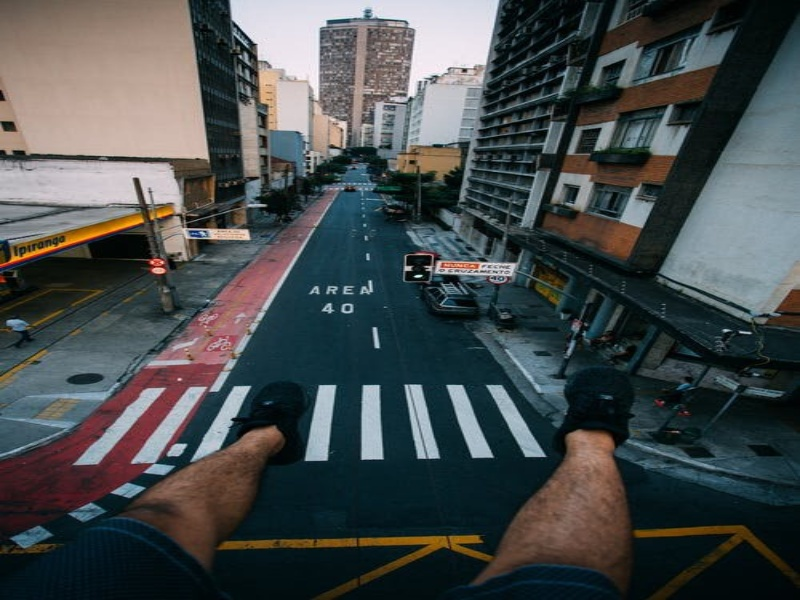zebra cross: (69, 382, 553, 467)
